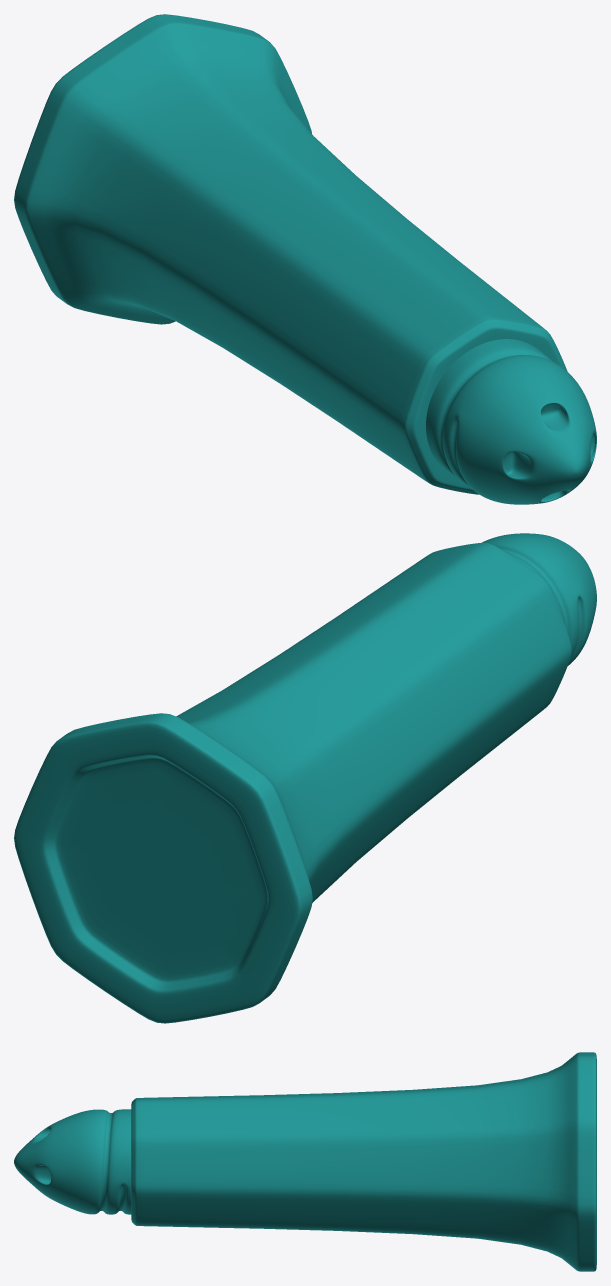
File: 20406_Tower_salt_shaker_v2.obj
3 renders of one model, top to bottom at view 1: azimuth 30°, elevation 25°; view 2: azimuth 150°, elevation 25°; view 3: azimuth 270°, elevation 25°, orthographic. The views are drawn at different scales.
Parts seen in each view (by area): view 1: 20406_Tower_salt_shaker_v2; view 2: 20406_Tower_salt_shaker_v2; view 3: 20406_Tower_salt_shaker_v2.
Boxes of the visible parts, <box> form: 20406_Tower_salt_shaker_v2: <box>14,14,596,504</box>; 20406_Tower_salt_shaker_v2: <box>14,533,596,1023</box>; 20406_Tower_salt_shaker_v2: <box>14,1052,596,1271</box>.
Bounding box in the file's own units: 5.88 × 5.88 × 14.92.
